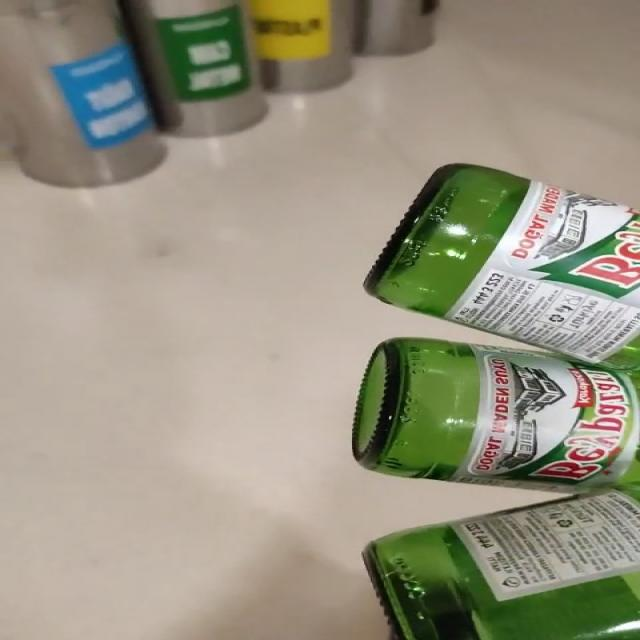glass: (352, 164, 639, 640)
